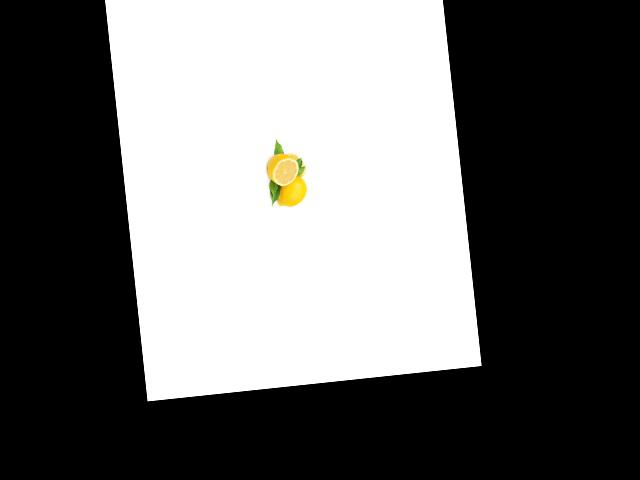lemon: (262, 149, 300, 188)
